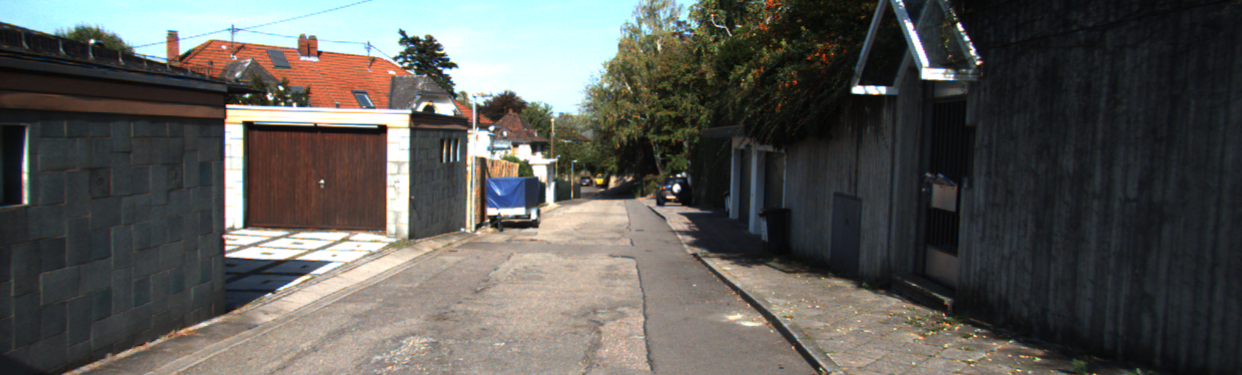car: (654, 177, 693, 208)
